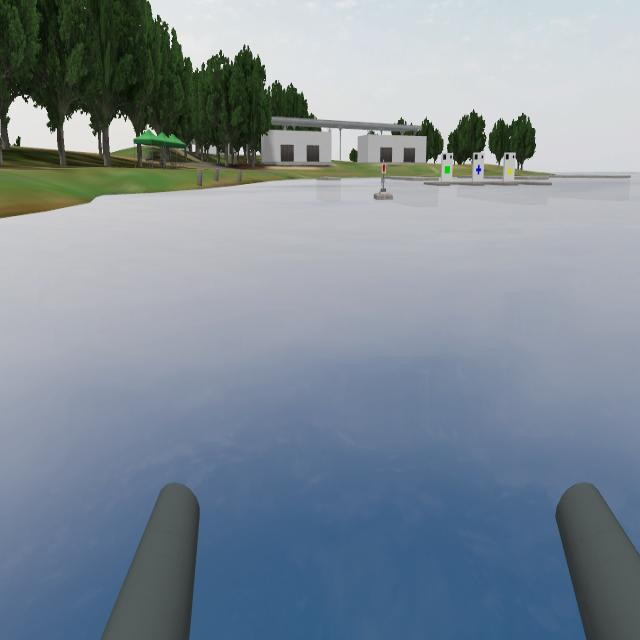red_pole: (380, 160, 390, 179)
